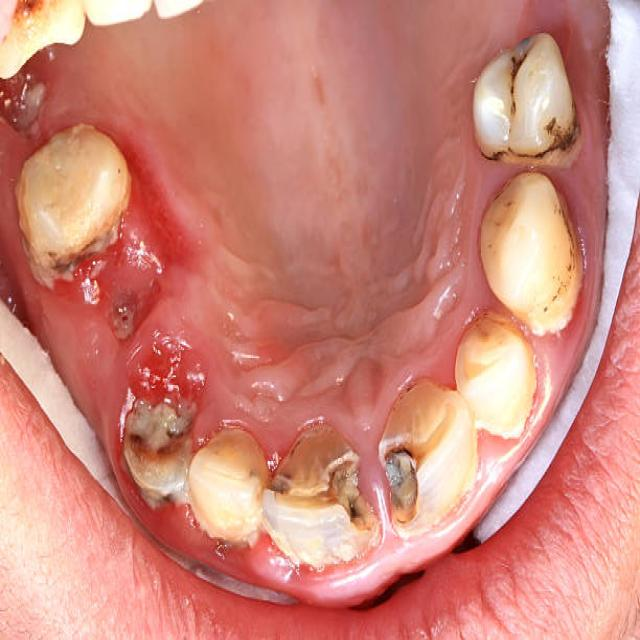Gingivitis: (132, 325, 204, 410), (81, 244, 157, 320)
